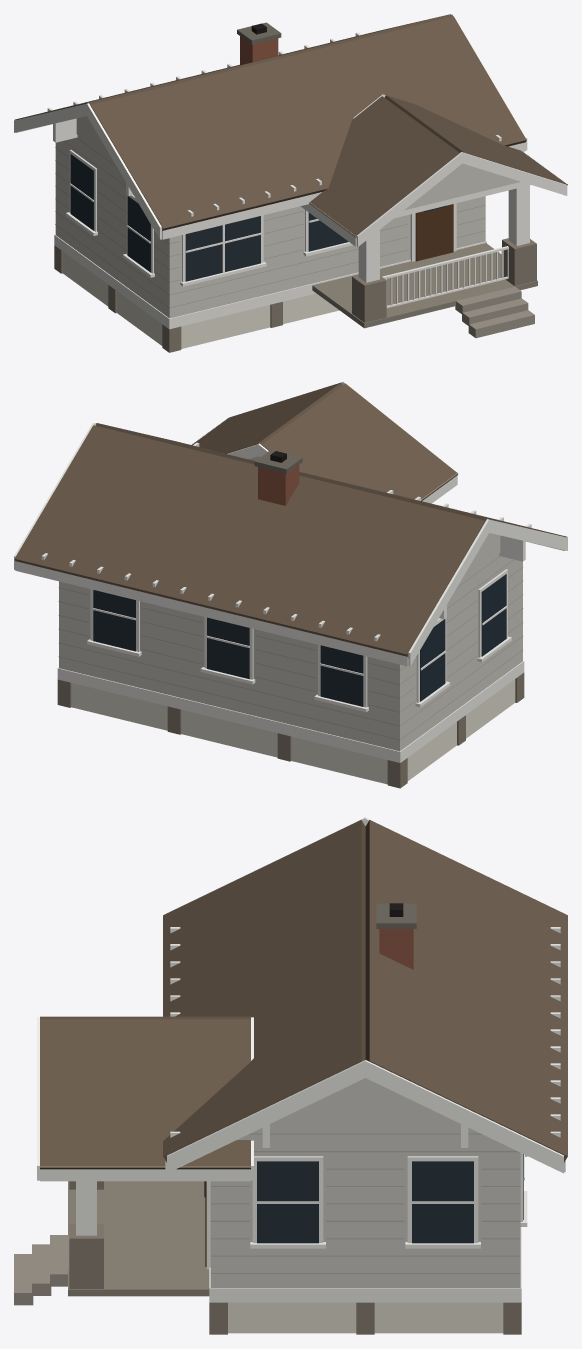
File: frame-cottage-0001.glb
3 views of the same model, one above another, from view 1: azimuth 30°, elevation 25°; view 2: azimuth 150°, elevation 25°; view 3: azimuth 270°, elevation 25° (orthographic). The views are drawn at different scales.
Parts seen in each view (by area): view 1: kit-frame-cottage-0001; view 2: kit-frame-cottage-0001; view 3: kit-frame-cottage-0001.
Part boxes in pixels (x1=…): kit-frame-cottage-0001: x1=14, y1=14, x2=567, y2=352; kit-frame-cottage-0001: x1=14, y1=381, x2=567, y2=788; kit-frame-cottage-0001: x1=14, y1=817, x2=567, y2=1334.
Bounding box in the file's own units: 9.3 × 5.74 × 8.94.
